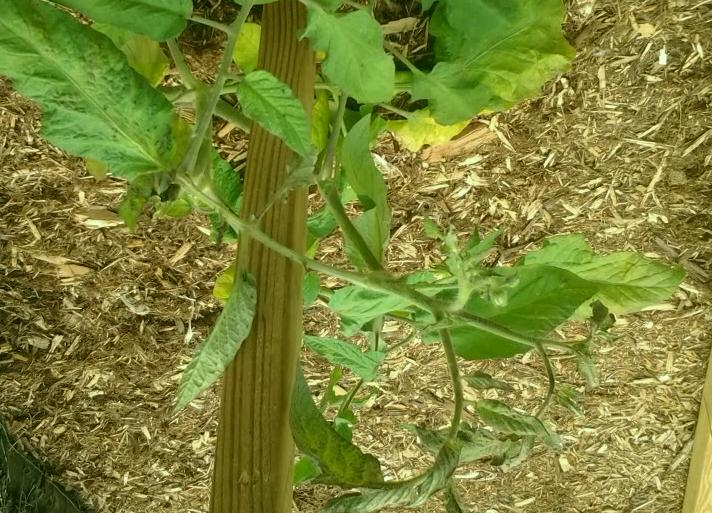Tomato leaf: (0, 0, 177, 182), (529, 235, 694, 317), (294, 0, 392, 125)
